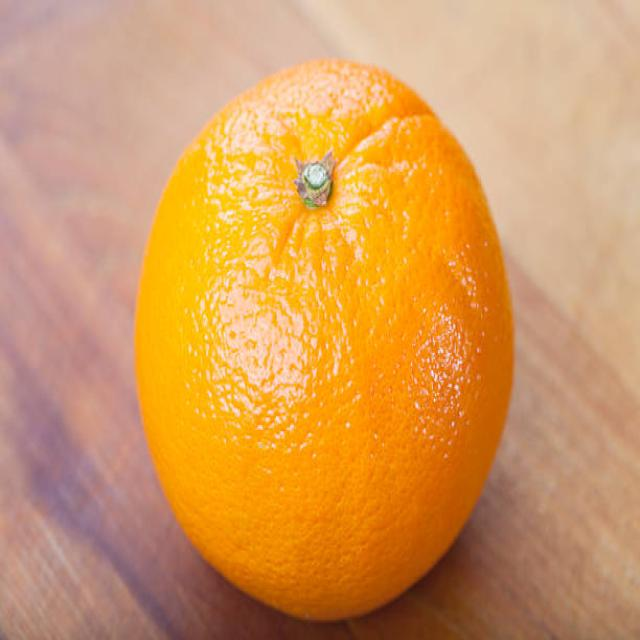Ripe: (132, 54, 518, 625)
